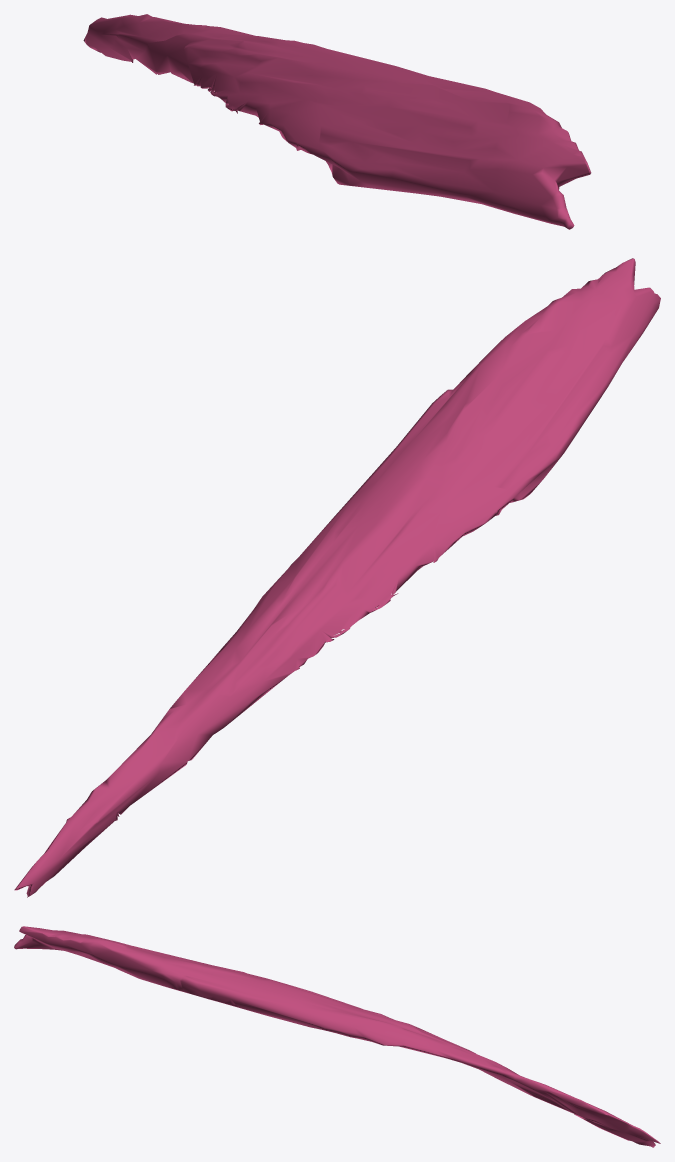
The picture shows the model from 3 angles, top to bottom: view 1: azimuth 30°, elevation 25°; view 2: azimuth 150°, elevation 25°; view 3: azimuth 270°, elevation 25°; orthographic projection. The views are drawn at different scales.
Parts seen in each view (by area): view 1: 左侧尺侧腕屈肌尺头; view 2: 左侧尺侧腕屈肌尺头; view 3: 左侧尺侧腕屈肌尺头.
Boxes of the visible parts, x1,y1,x2,y2 form: 左侧尺侧腕屈肌尺头: (83, 14, 591, 229); 左侧尺侧腕屈肌尺头: (14, 258, 660, 897); 左侧尺侧腕屈肌尺头: (14, 926, 660, 1147).
Size of the model in its own units: 0.0614 by 0.1043 by 0.3243.
